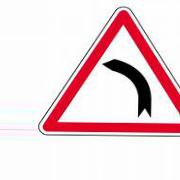left: (36, 5, 180, 137)
